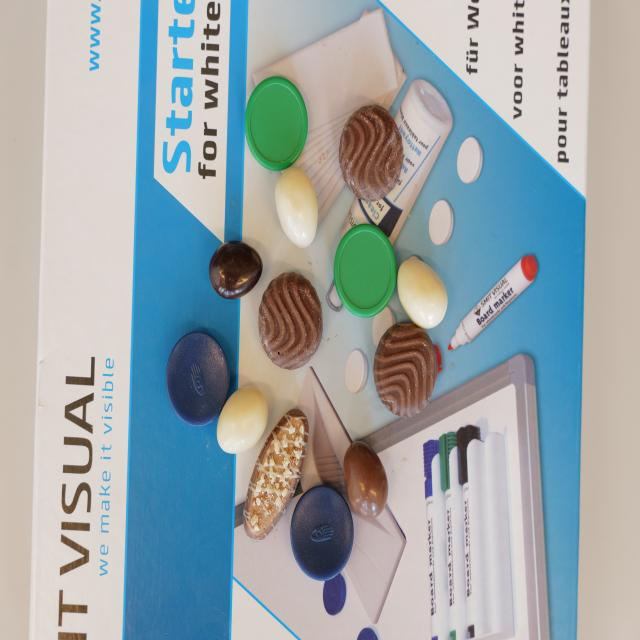Amandina: (244, 407, 310, 540)
Jelly_Black: (209, 239, 263, 300)
Jelly_Milk: (344, 440, 388, 516)
Jelly_White: (216, 384, 269, 455), (397, 257, 446, 328), (276, 167, 317, 249)
Noir_authentique: (338, 104, 402, 203), (259, 272, 323, 370), (373, 322, 438, 410)
